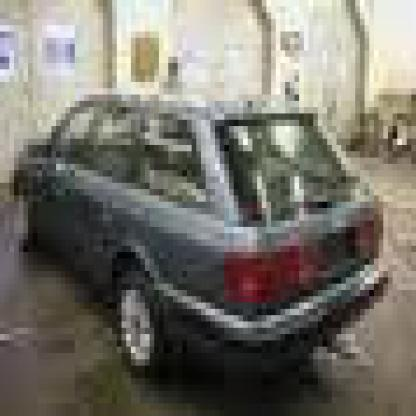Vehicle: (9, 95, 388, 384)
